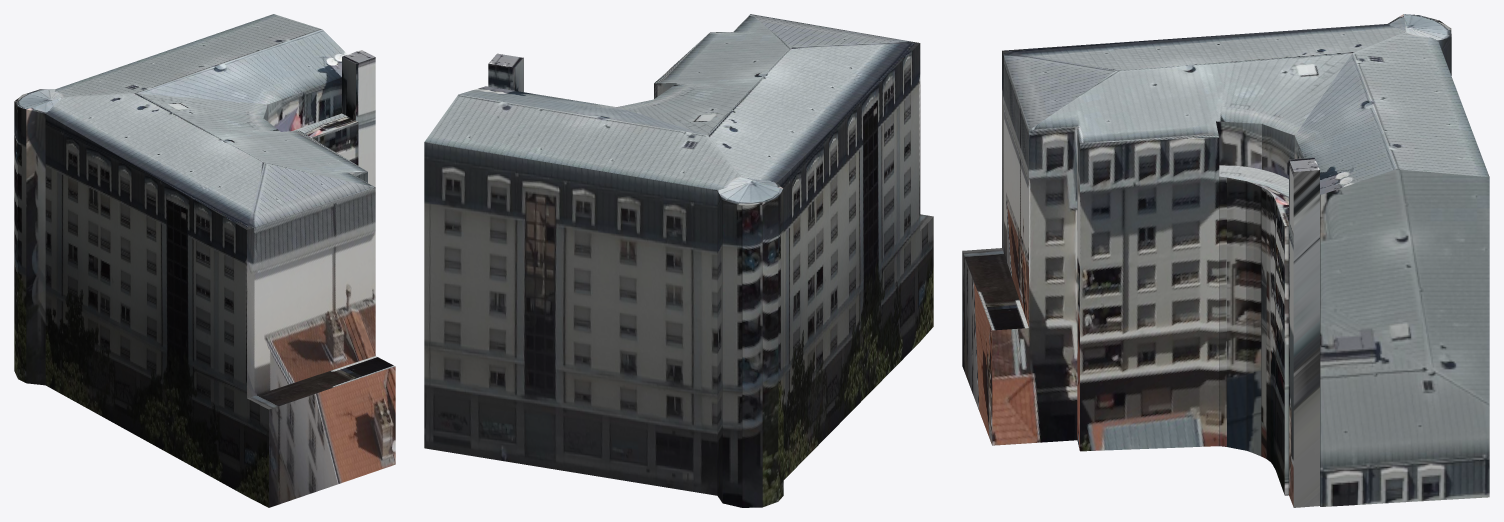
The picture shows the model from 3 angles, left to right: view 1: azimuth 30°, elevation 25°; view 2: azimuth 150°, elevation 25°; view 3: azimuth 270°, elevation 25°; orthographic projection. The views are drawn at different scales.
Visible parts, largest first — view 1: Z_UP; view 2: Z_UP; view 3: Z_UP.
Boxes of the visible parts, x1=… form: Z_UP: x1=14, y1=14, x2=395, y2=507; Z_UP: x1=424, y1=14, x2=933, y2=507; Z_UP: x1=962, y1=14, x2=1489, y2=507.
Bounding box in the file's own units: 26.66 × 23.99 × 34.13.
2 materials, 1 textured.
